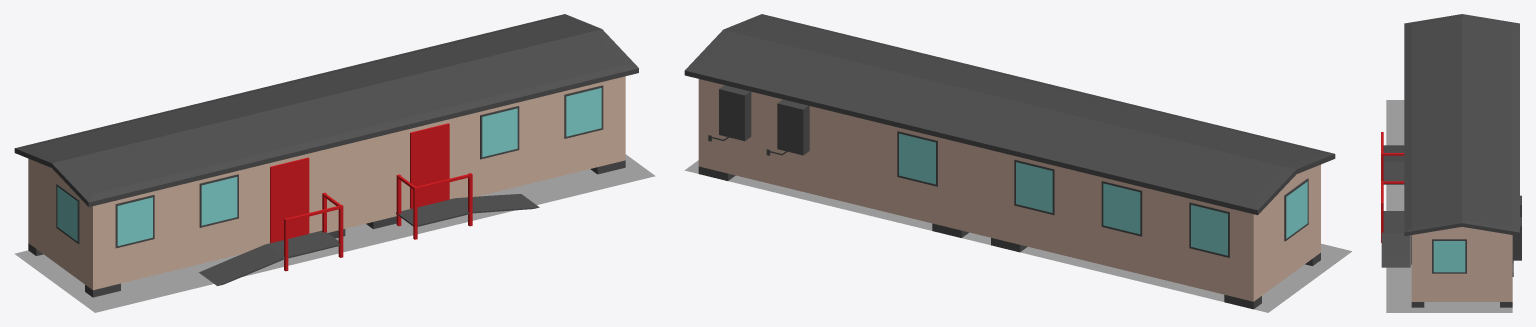
Rendered from portable-medium.fbx.
3 renders of one model, left to right at view 1: azimuth 30°, elevation 25°; view 2: azimuth 150°, elevation 25°; view 3: azimuth 270°, elevation 25°, orthographic. The views are drawn at different scales.
Parts seen in each view (by area): view 1: portable-medium; view 2: portable-medium; view 3: portable-medium.
Part boxes in pixels (bbox=[...]): portable-medium: bbox=[14, 14, 655, 312]; portable-medium: bbox=[684, 14, 1351, 312]; portable-medium: bbox=[1381, 14, 1521, 312].
Size of the model in its own units: 400 by 77.95 by 112.
